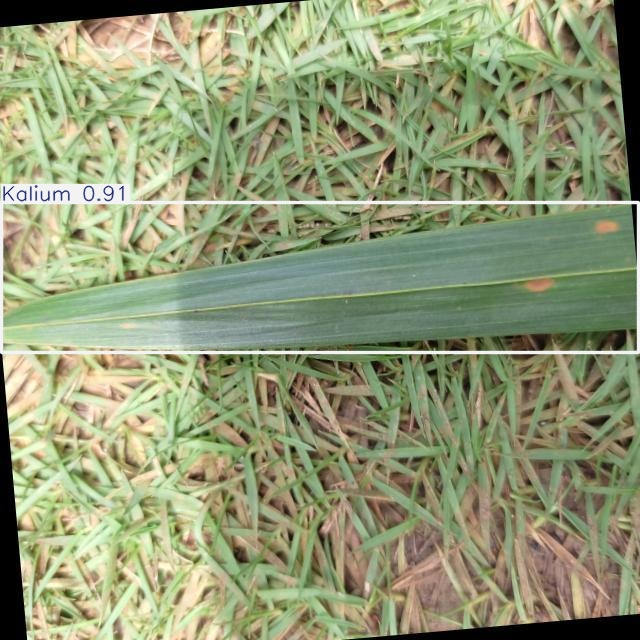Kalium: (1, 202, 639, 352)
